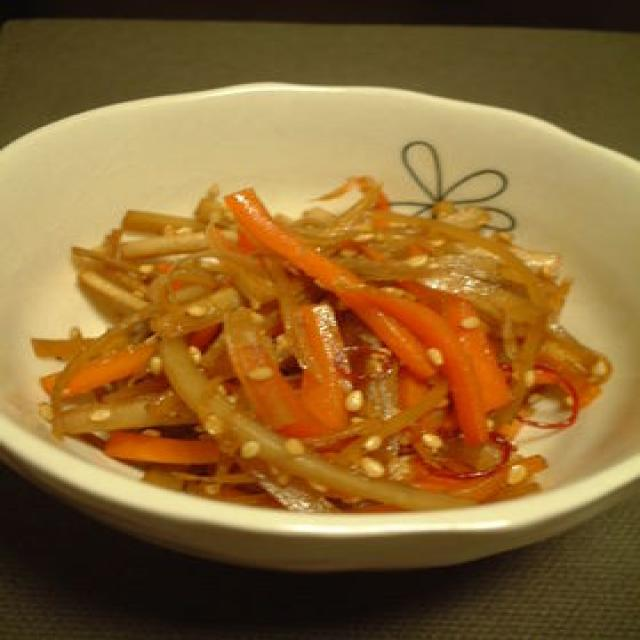蔬菜料理: (21, 53, 626, 597)
